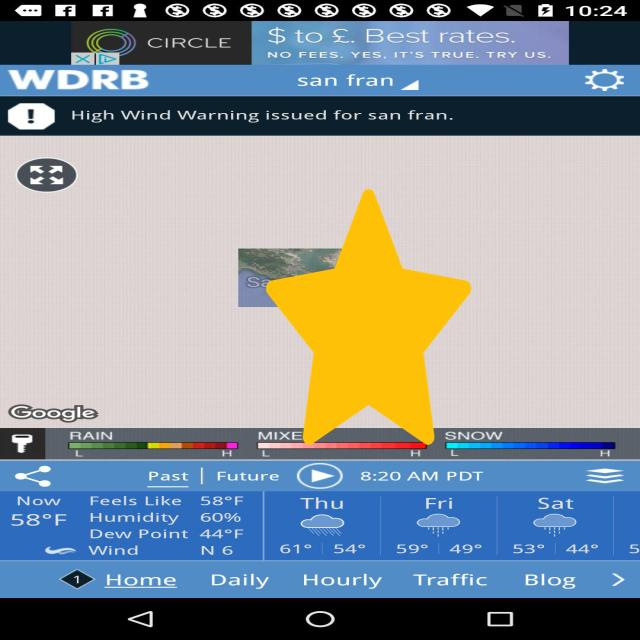forced continuity: (266, 189, 471, 445)
